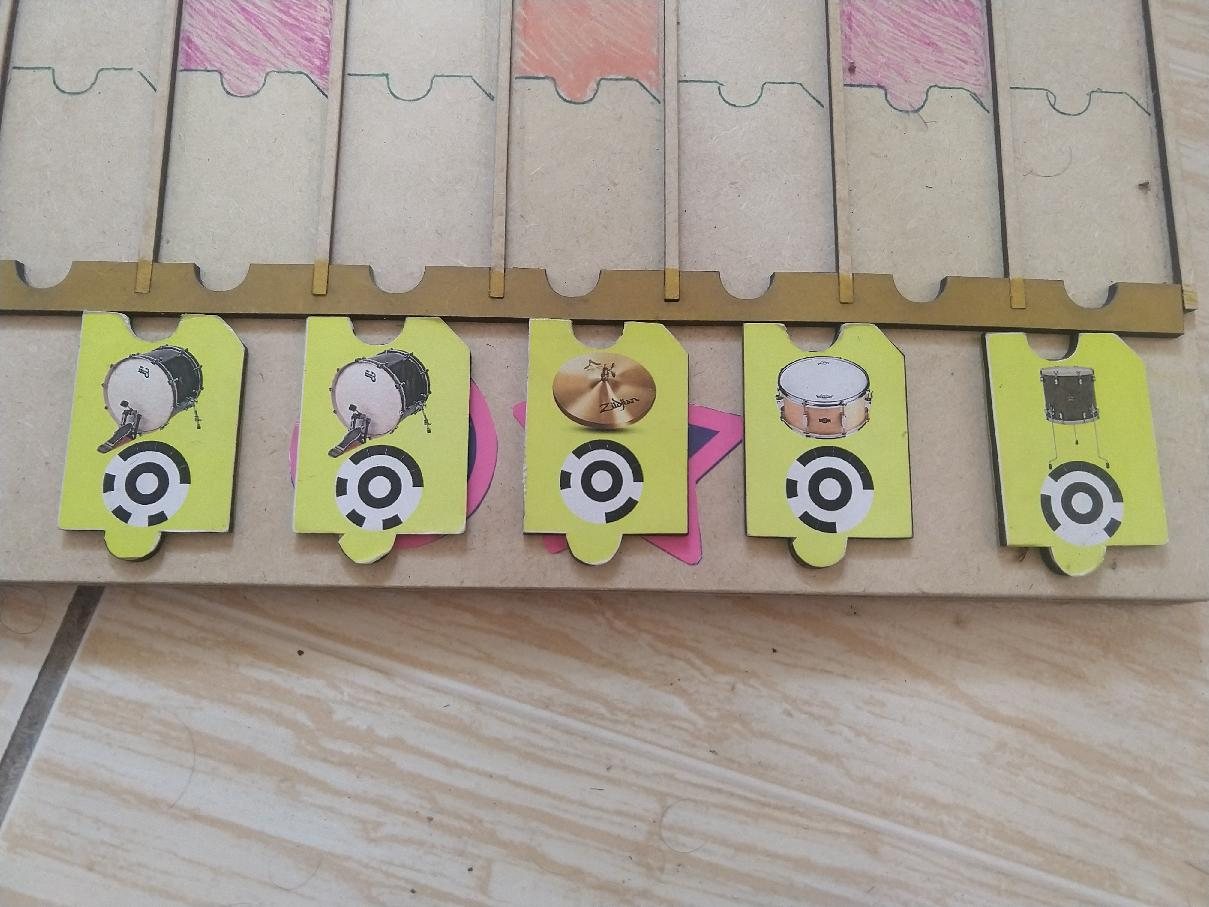bumbo: (58, 302, 251, 562), (288, 310, 470, 566)
